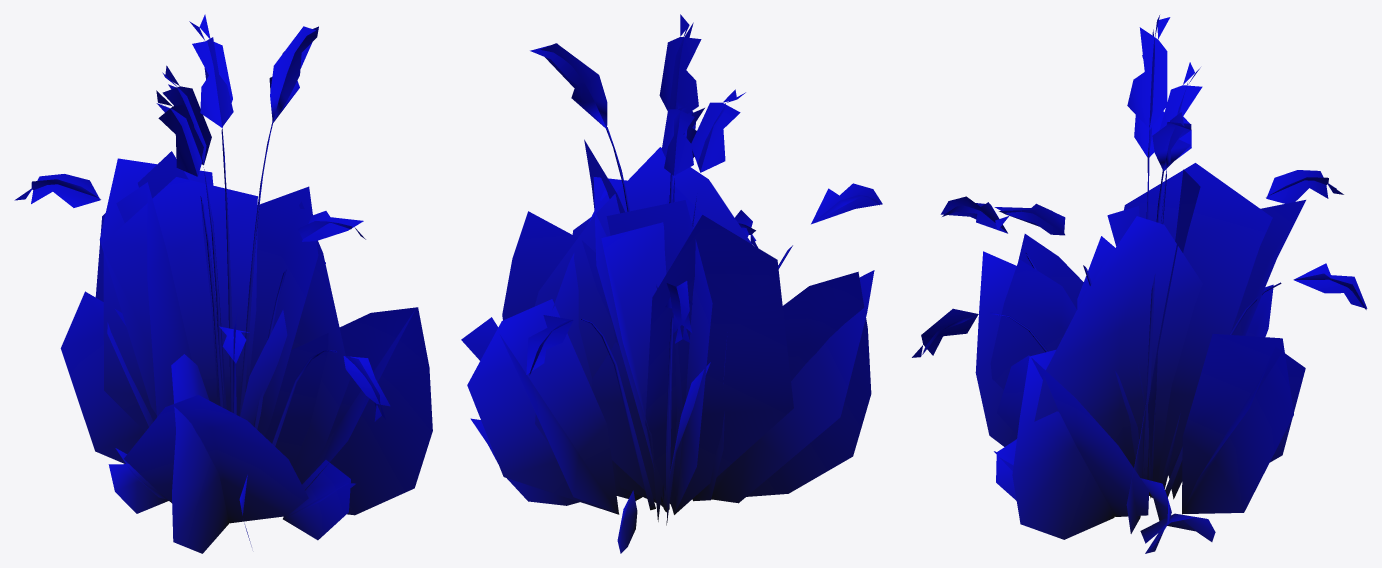
File: SM_WildGrass_L_01.fbx
3 views of the same model, side by side, from view 1: azimuth 30°, elevation 25°; view 2: azimuth 150°, elevation 25°; view 3: azimuth 270°, elevation 25° (orthographic). The views are drawn at different scales.
Visible parts, largest first — view 1: SM_WildGrass_L_01_LOD0; view 2: SM_WildGrass_L_01_LOD0; view 3: SM_WildGrass_L_01_LOD0.
Part boxes in pixels (left/top/right/bottom): SM_WildGrass_L_01_LOD0: left=14, top=14, right=432, bottom=553; SM_WildGrass_L_01_LOD0: left=461, top=14, right=882, bottom=553; SM_WildGrass_L_01_LOD0: left=912, top=15, right=1367, bottom=553.
Size of the model in its own units: 95.12 by 126 by 148.
